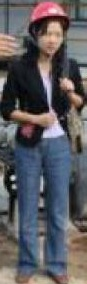boots: (47, 269, 69, 284), (15, 267, 33, 283)
hard-hat: (0, 0, 34, 25)
